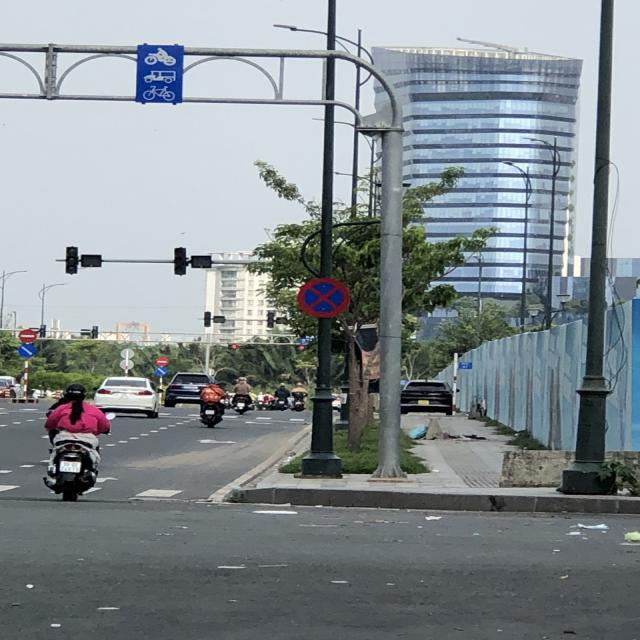Bien bao cam dung xe va do xe: (292, 269, 357, 326)
